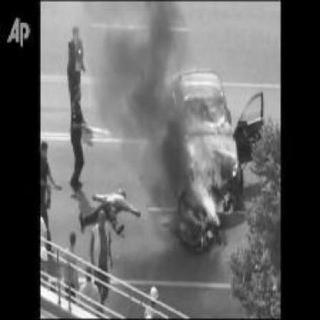Smoke: (76, 2, 188, 148)
